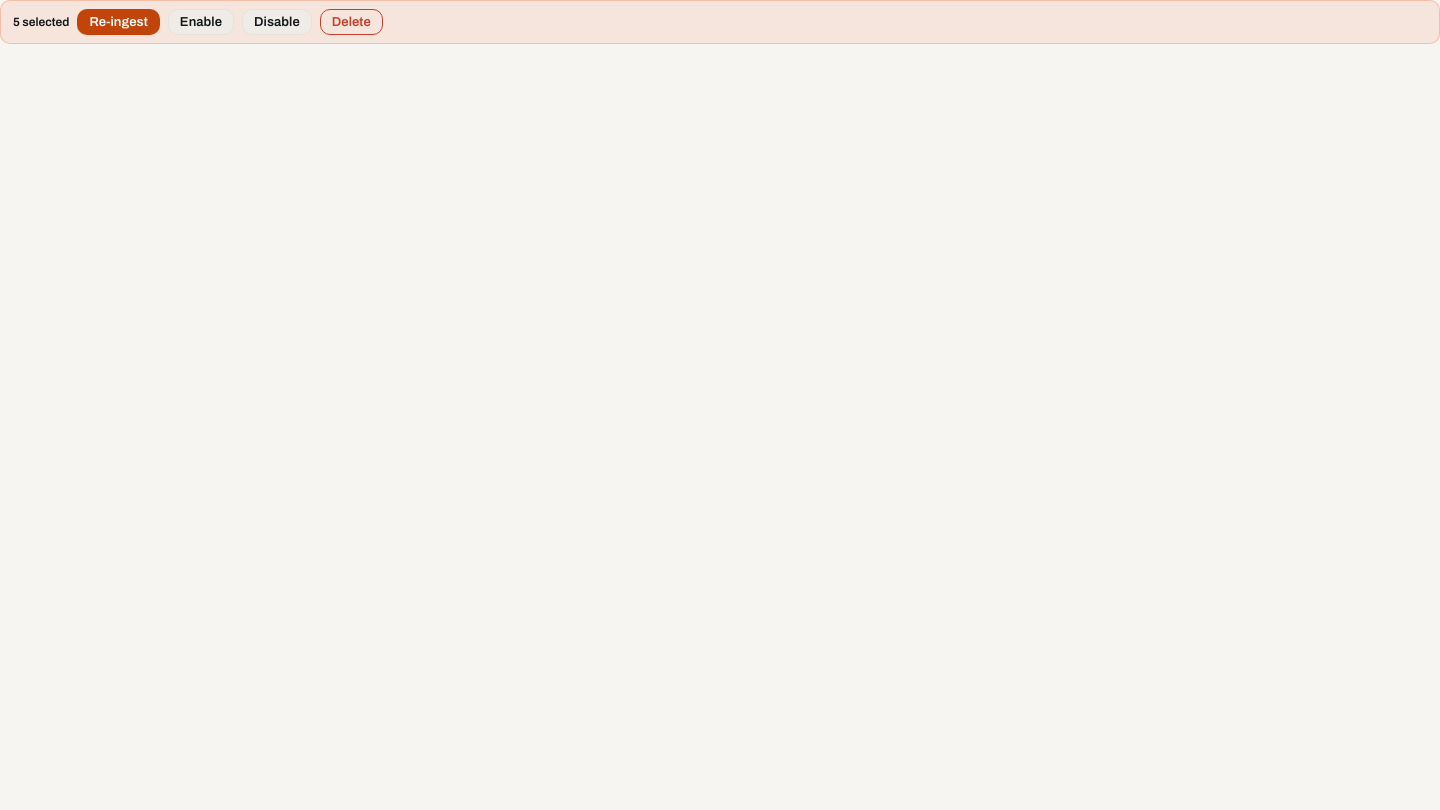
Test: BulkActionBar — bulk re-ingest result toast › reports skipped_in_flight when documents were skipped as already in flight
The image size is (1440, 810).
Click the button "Re-ingest" at (119, 22), box [78,9,160,35]
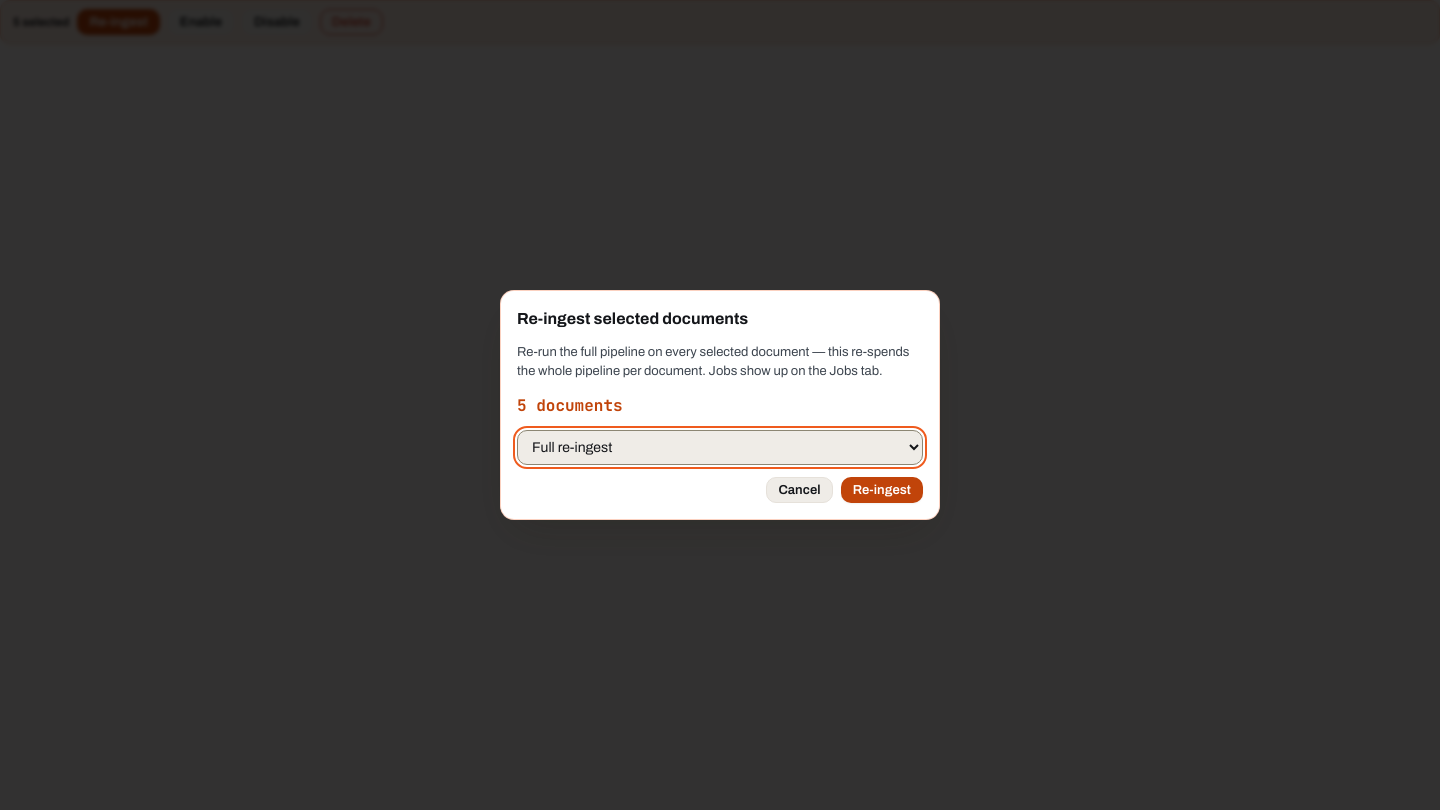
Click the button "Re-ingest" at (882, 490), box [841,477,923,503]
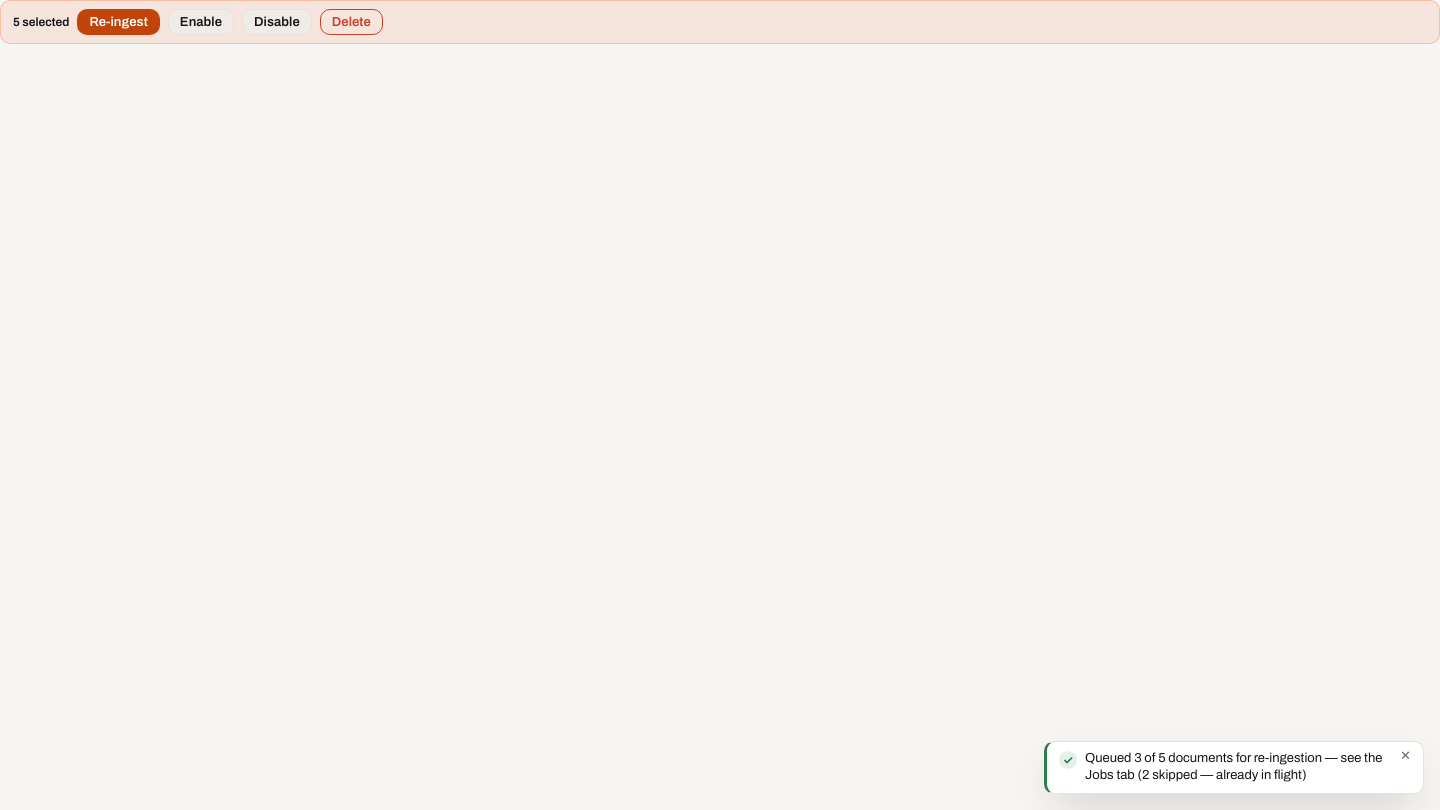
Now the text "2 skipped — already in flight" is shown, box [1085,751,1382,782]
